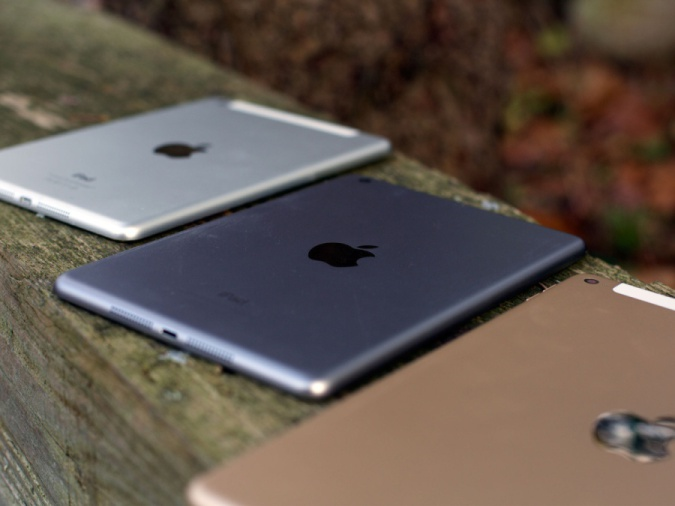apple: (578, 384, 675, 476), (301, 224, 384, 307), (145, 131, 231, 179)
